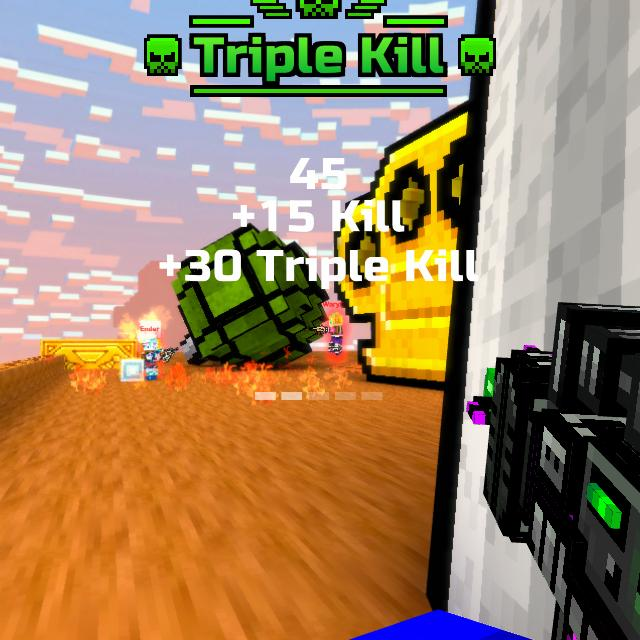Enemy: (324, 311, 344, 354)
